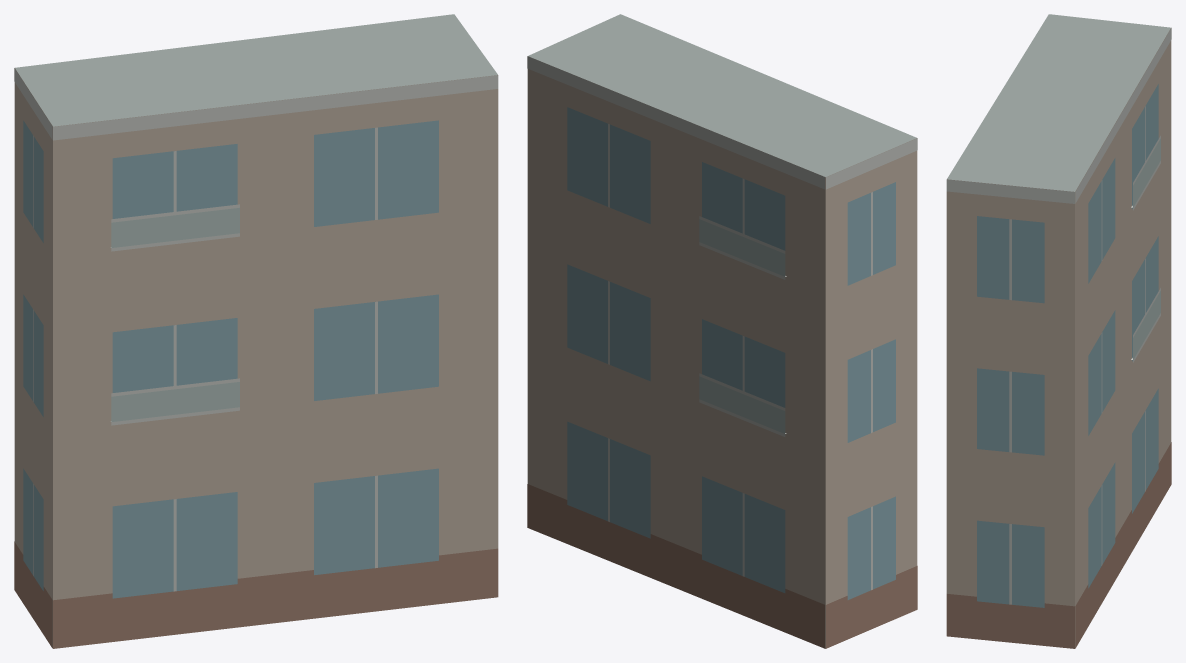
File: survey-upis-32938150.glb
3 views of the same model, side by side, from view 1: azimuth 30°, elevation 25°; view 2: azimuth 150°, elevation 25°; view 3: azimuth 270°, elevation 25° (orthographic). The views are drawn at different scales.
Visible parts, largest first — view 1: survey-upis-32938150.tmp; view 2: survey-upis-32938150.tmp; view 3: survey-upis-32938150.tmp.
Part boxes in pixels (x1,y1,x2,y2): survey-upis-32938150.tmp: (14,14,498,648); survey-upis-32938150.tmp: (527,14,917,648); survey-upis-32938150.tmp: (946,14,1171,648).
Size of the model in its own units: 7.65 by 9.15 by 4.09.
